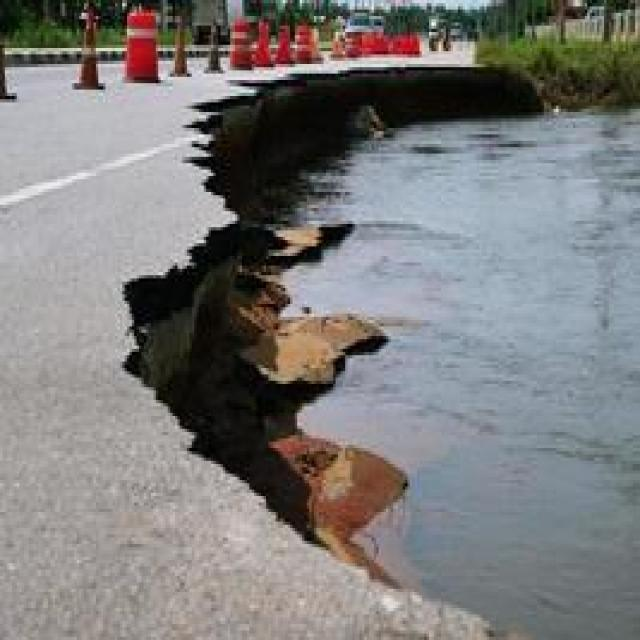road collapse: (91, 24, 640, 639)
